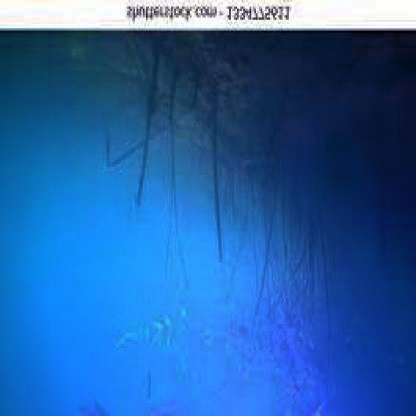misc: (231, 110, 333, 282)
